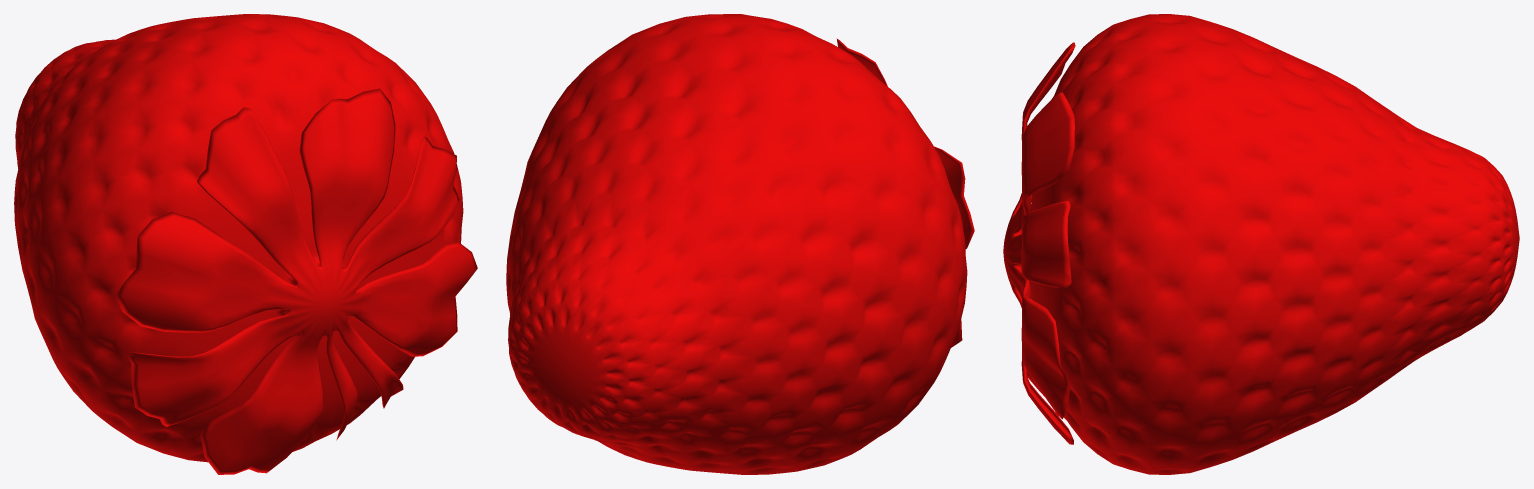
The model's file is strawberry.fbx.
3 renders of one model, left to right at view 1: azimuth 30°, elevation 25°; view 2: azimuth 150°, elevation 25°; view 3: azimuth 270°, elevation 25°, orthographic. The views are drawn at different scales.
Parts seen in each view (by area): view 1: object_1_002; view 2: object_1_002; view 3: object_1_002.
Part boxes in pixels (bbox=[...]): object_1_002: bbox=[14, 14, 477, 474]; object_1_002: bbox=[506, 14, 974, 474]; object_1_002: bbox=[1003, 14, 1519, 474].
Bounding box in the file's own units: 1.78 × 1.78 × 1.99.
